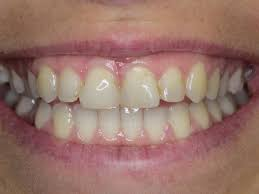normal: (18, 94, 33, 122), (229, 65, 243, 94), (34, 102, 49, 129), (207, 97, 222, 123), (207, 66, 219, 98), (219, 66, 229, 96), (26, 70, 37, 97), (13, 70, 24, 92), (221, 97, 234, 115), (233, 93, 249, 104)
yellow: (120, 66, 160, 107), (81, 67, 119, 107), (74, 104, 100, 141), (144, 108, 170, 142), (160, 67, 185, 101), (57, 66, 80, 102), (50, 103, 73, 137), (120, 107, 143, 141), (186, 63, 206, 102), (169, 102, 191, 137), (98, 107, 120, 140), (37, 66, 56, 103), (191, 101, 211, 128)
